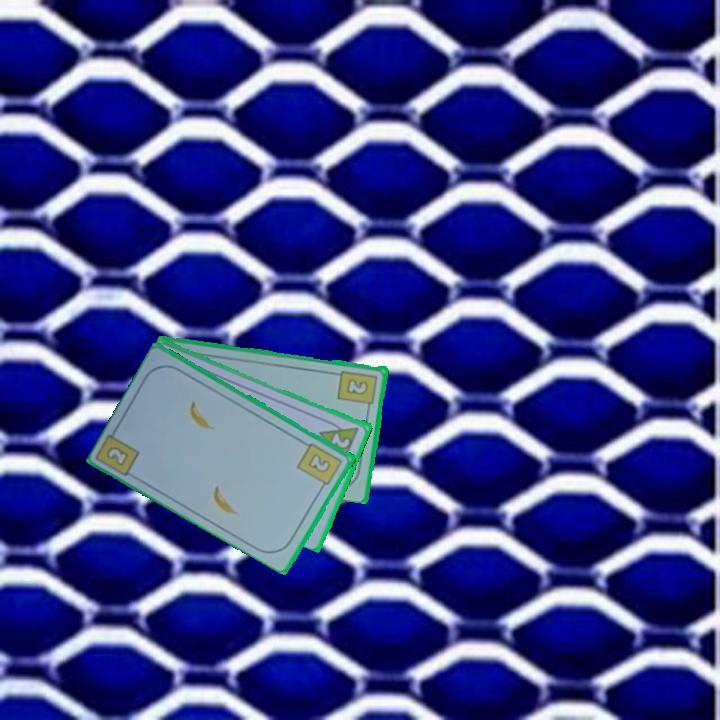2b: (294, 439, 346, 492), (335, 367, 380, 413), (103, 443, 132, 469)
2p: (316, 415, 362, 465)
